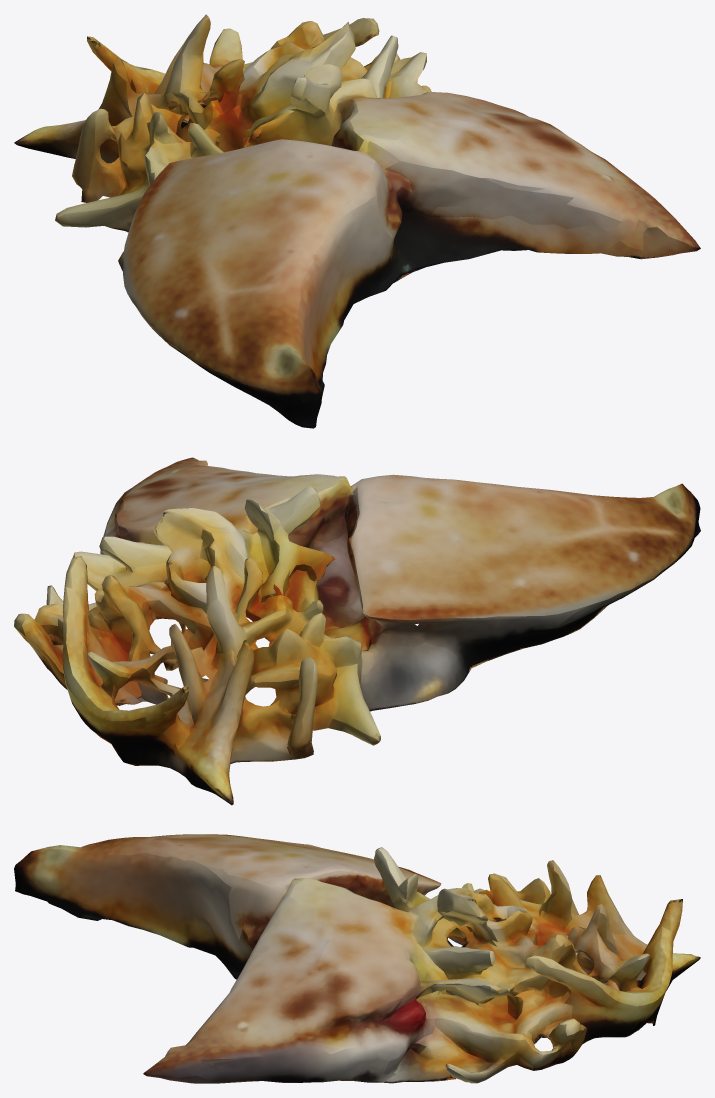
Rendered from item-3d-0507bbe2-9c30-4005-995c-670aeacbd092.glb.
The picture shows the model from 3 angles, top to bottom: view 1: azimuth 30°, elevation 25°; view 2: azimuth 150°, elevation 25°; view 3: azimuth 270°, elevation 25°; orthographic projection. The views are drawn at different scales.
Visible parts, largest first — view 1: world; view 2: world; view 3: world.
Part boxes in pixels (left/top/right/bottom): world: left=14, top=14, right=700, bottom=428; world: left=14, top=457, right=700, bottom=805; world: left=14, top=834, right=700, bottom=1083.
Size of the model in its own units: 0.208 by 0.0727 by 0.28.
Materials: 1 (1 with a texture image).
